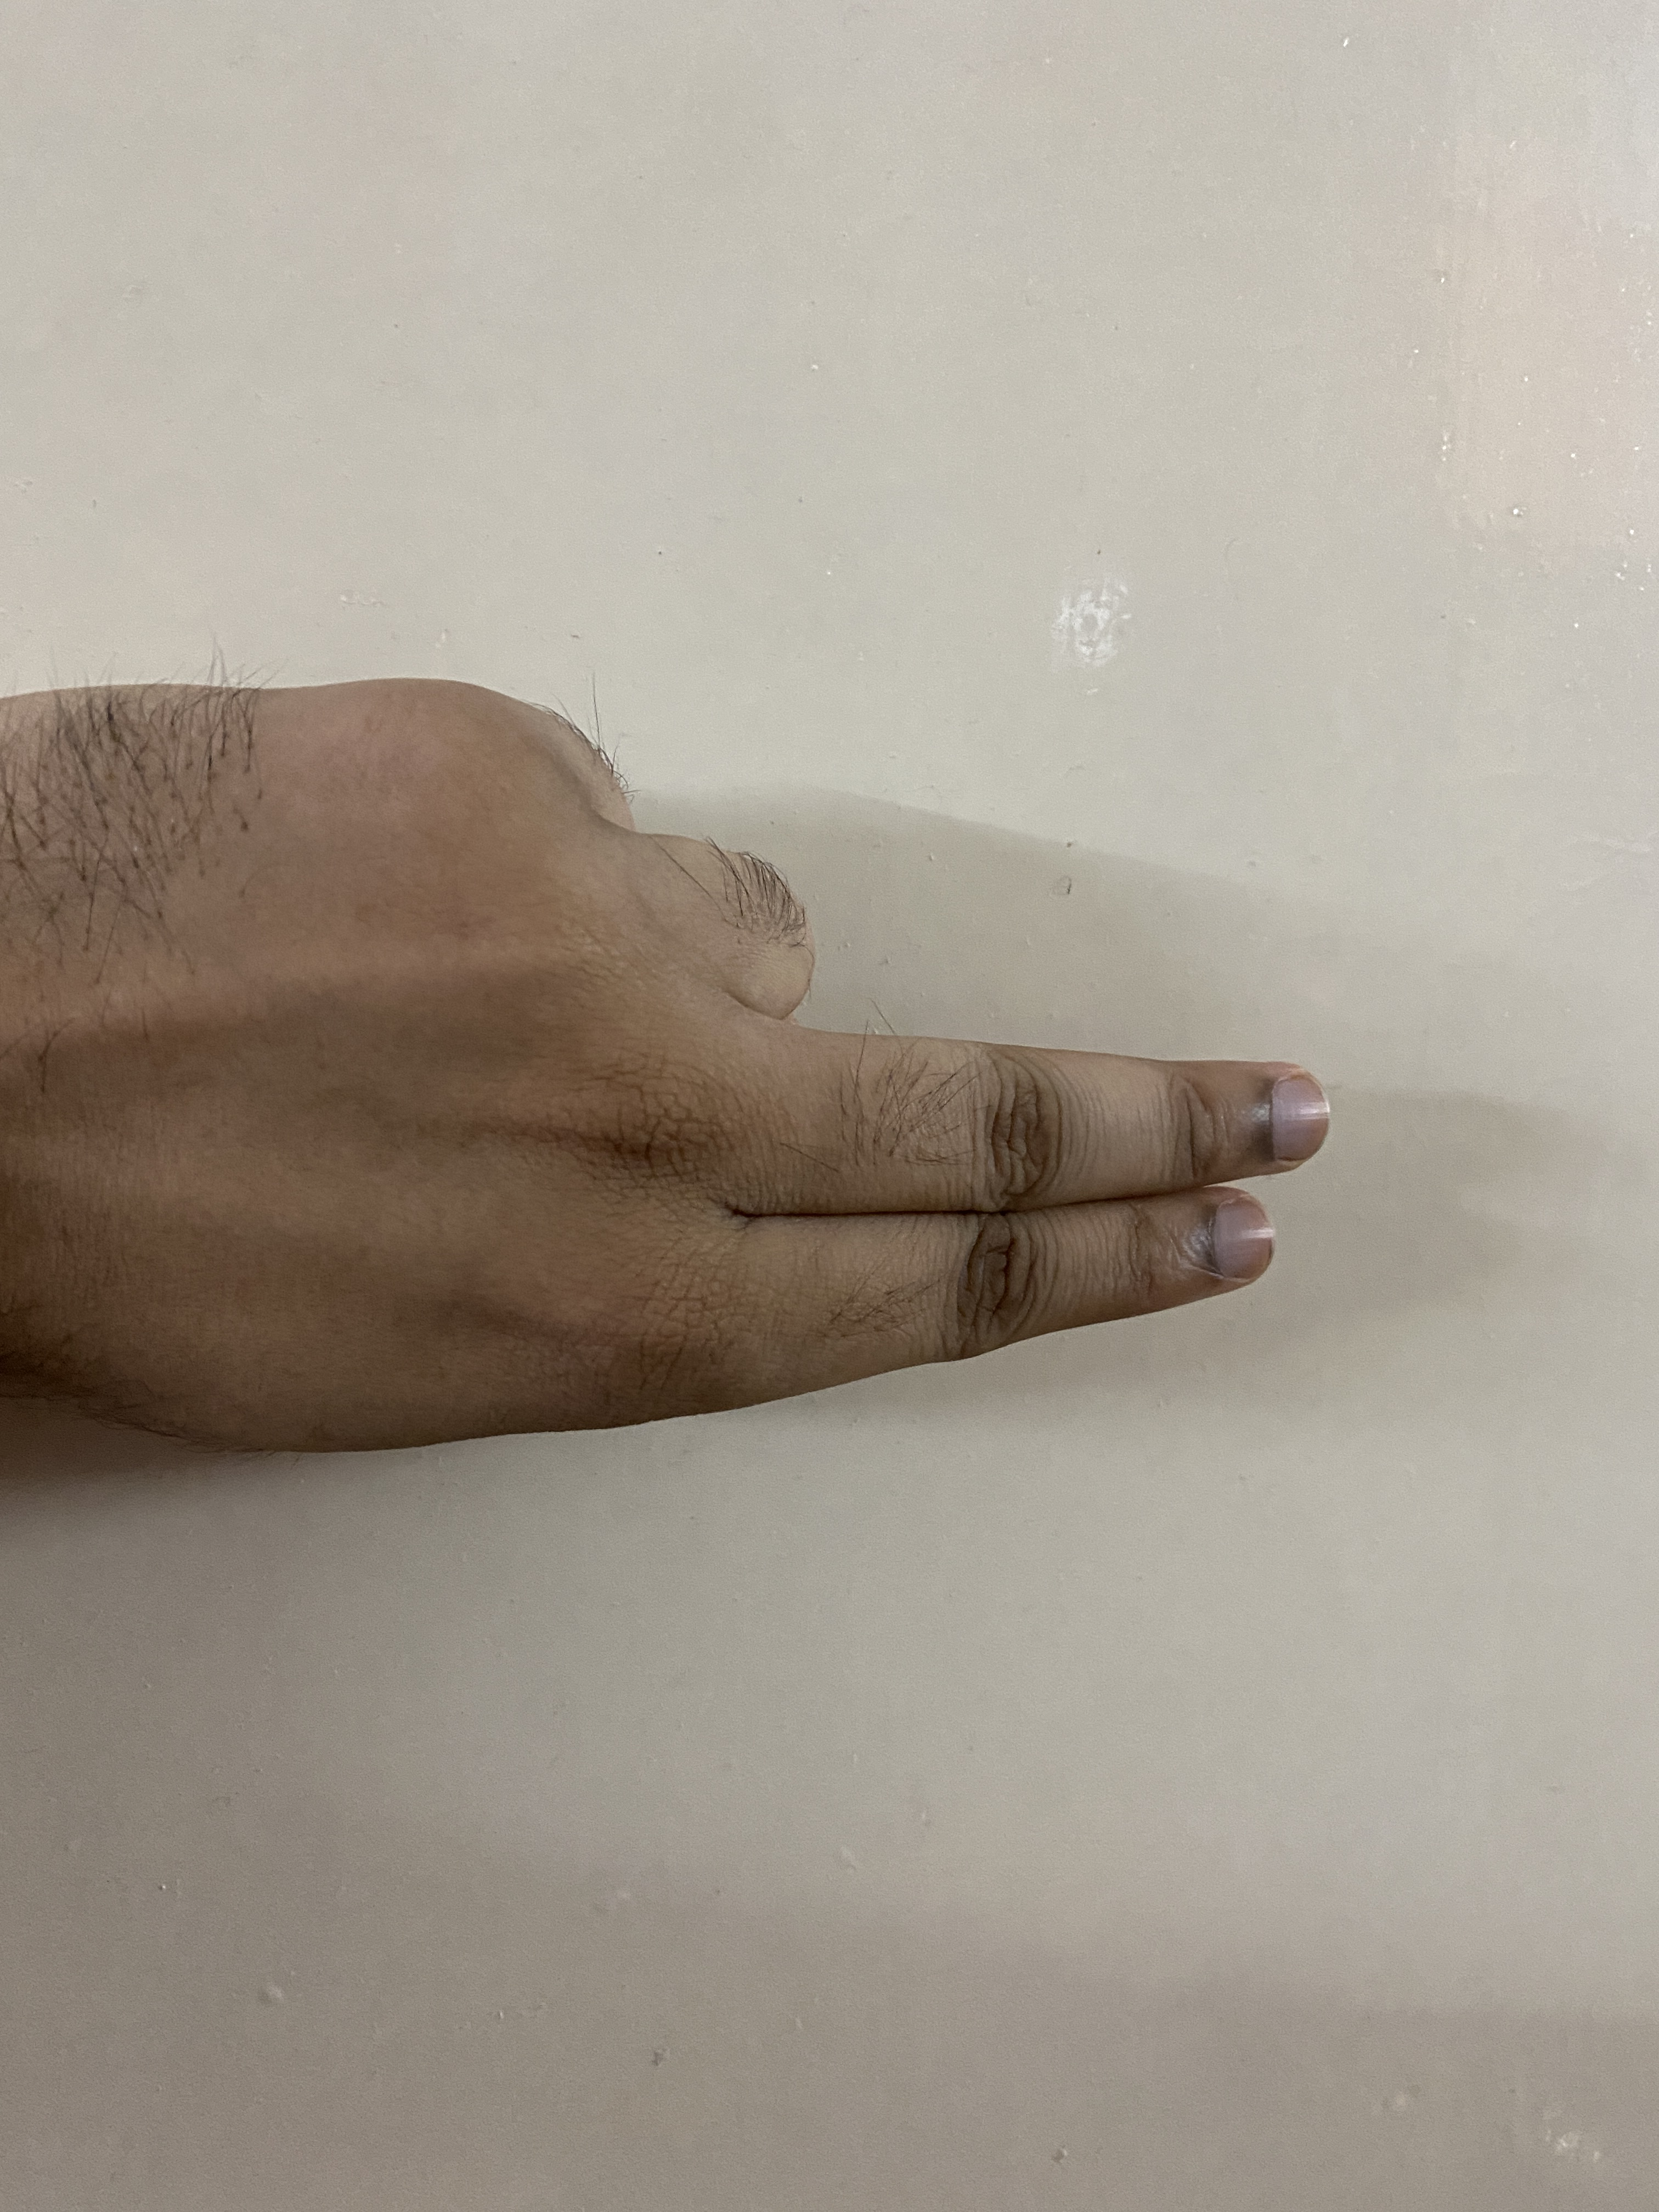left: (5, 590, 1448, 1494)
